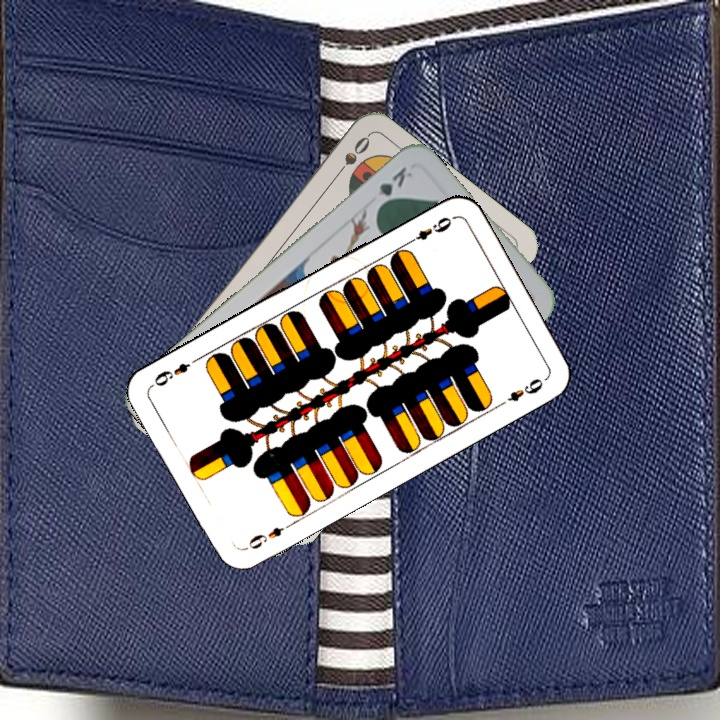E9: (402, 212, 456, 248), (241, 518, 295, 553)
GK: (372, 162, 415, 212)
SO: (330, 132, 373, 182)
